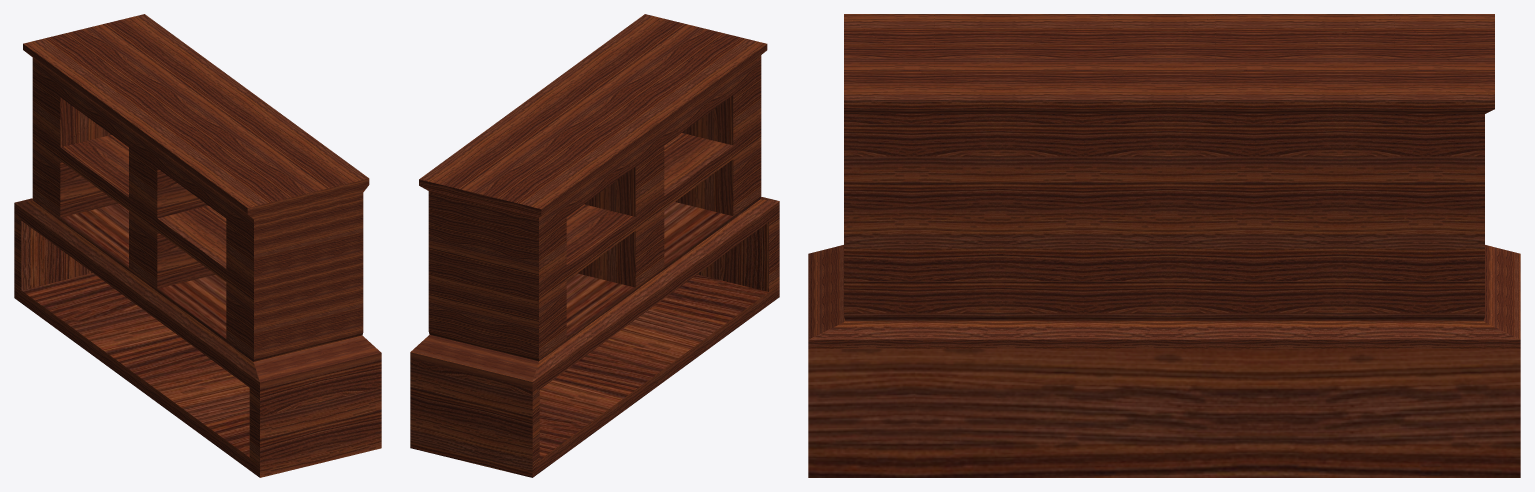
The model's file is 2. Gaveteiro.fbx.
The picture shows the model from 3 angles, left to right: view 1: azimuth 30°, elevation 25°; view 2: azimuth 150°, elevation 25°; view 3: azimuth 270°, elevation 25°; orthographic projection. The views are drawn at different scales.
Visible parts, largest first — view 1: Cube.014; view 2: Cube.014; view 3: Cube.014.
Part boxes in pixels (<box>): Cube.014: <box>14,14,381,477</box>; Cube.014: <box>410,14,779,477</box>; Cube.014: <box>808,14,1520,477</box>.
Bounding box in the file's own units: 200 × 410 × 700.
